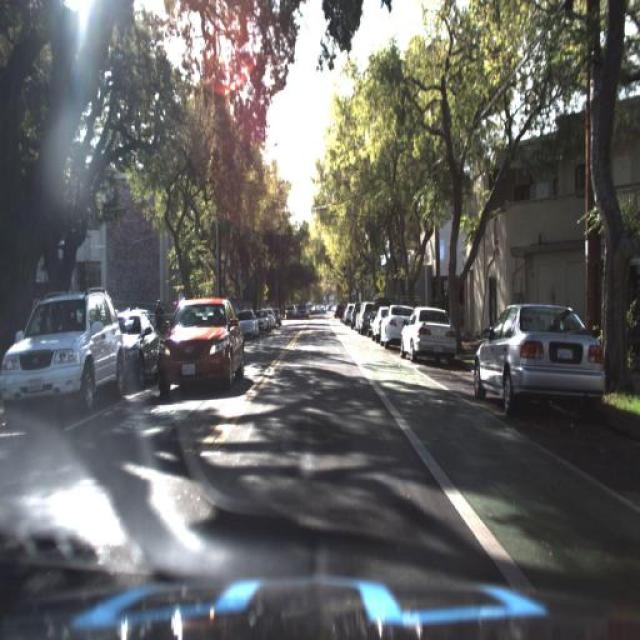car: (468, 294, 612, 430), (473, 298, 608, 434), (1, 285, 125, 429), (153, 292, 246, 396), (156, 292, 242, 388), (396, 298, 460, 368), (394, 307, 454, 365), (380, 301, 415, 349), (382, 296, 403, 352), (236, 304, 260, 340), (356, 298, 370, 334), (373, 306, 382, 338)
